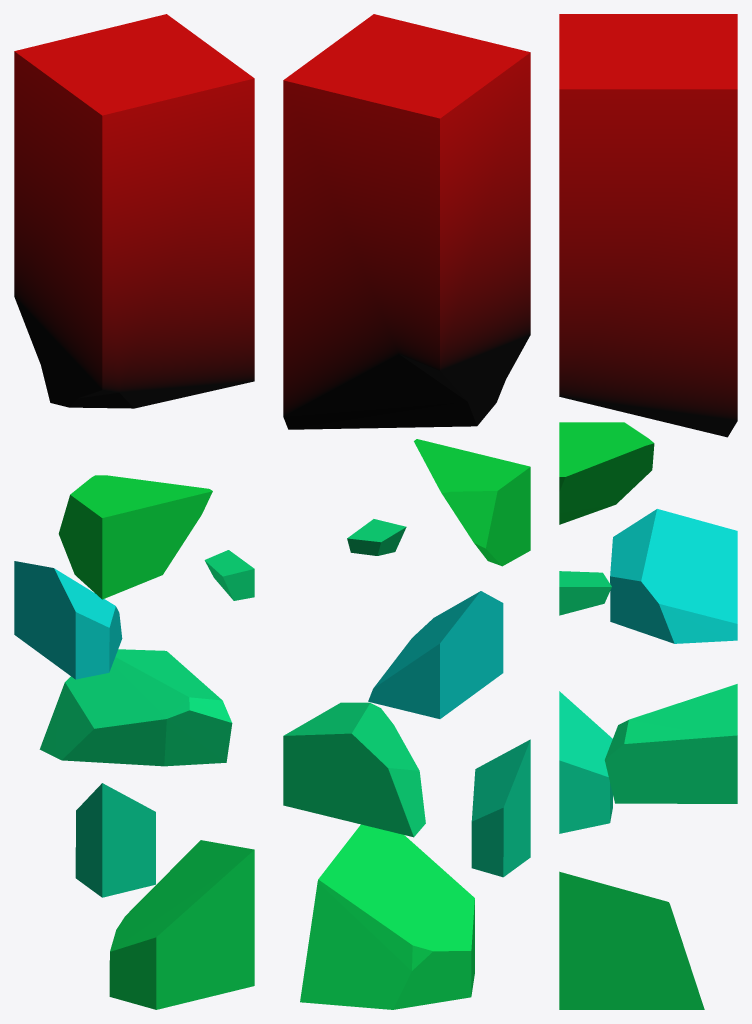
File: SM_FloatingPillar.fbx
The picture shows the model from 3 angles, left to right: view 1: azimuth 30°, elevation 25°; view 2: azimuth 150°, elevation 25°; view 3: azimuth 270°, elevation 25°; orthographic projection. The views are drawn at different scales.
Parts seen in each view (by area): view 1: Pillar; view 2: Pillar; view 3: Pillar.
Boxes of the visible parts, x1,y1,x2,y2 form: Pillar: (14, 14, 254, 1009); Pillar: (283, 14, 530, 1009); Pillar: (559, 14, 737, 1009).
Bounding box in the file's own units: 1 × 5.69 × 1.
